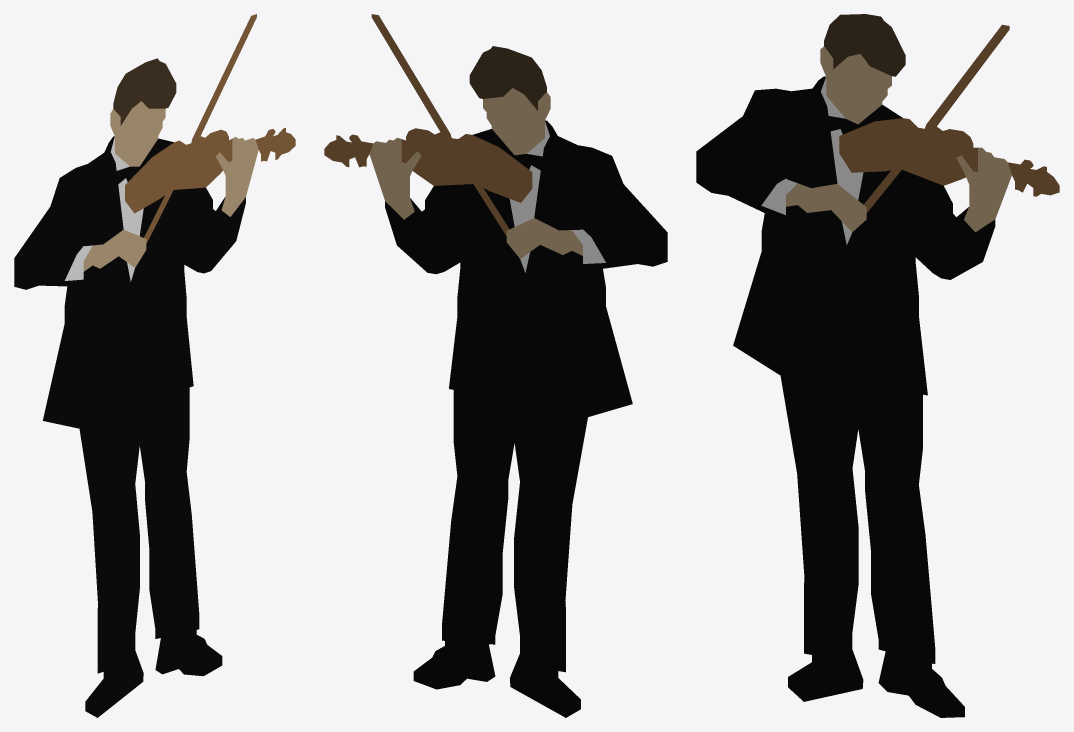
Rendered from violinist.dae.
3 renders of one model, left to right at view 1: azimuth 30°, elevation 25°; view 2: azimuth 150°, elevation 25°; view 3: azimuth 330°, elevation 25°, orthographic. The views are drawn at different scales.
Visible parts, largest first — view 1: SketchUp (×9); view 2: SketchUp (×9); view 3: SketchUp (×9).
Boxes of the visible parts, x1=… form: SketchUp (×9): x1=14, y1=14, x2=295, y2=717; SketchUp (×9): x1=324, y1=14, x2=667, y2=717; SketchUp (×9): x1=696, y1=14, x2=1059, y2=717.
Size of the model in its own units: 35.68 by 5.17 by 72.26.
